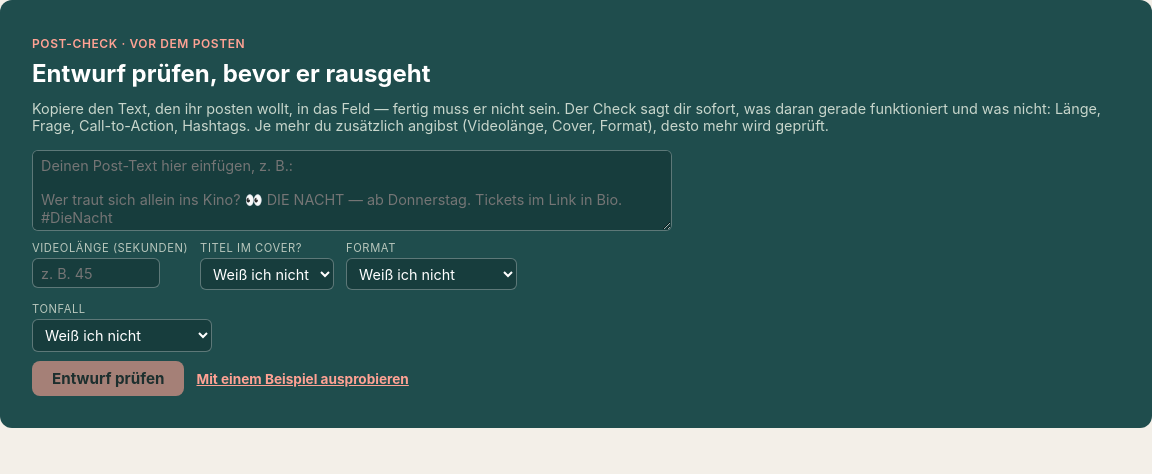
Test: PostCheckBlock — Flag-Gate und Ablauf › meldet einen Fehler, statt ihn zu verschlucken
The image size is (1152, 474).
expect the heading "Entwurf prüfen, bevor er rausgeht" is shown: met, box [32,59,430,88]
Replace the text in the text box named "Caption-Entwurf" with "x" at (352, 191), box [32,150,672,231]
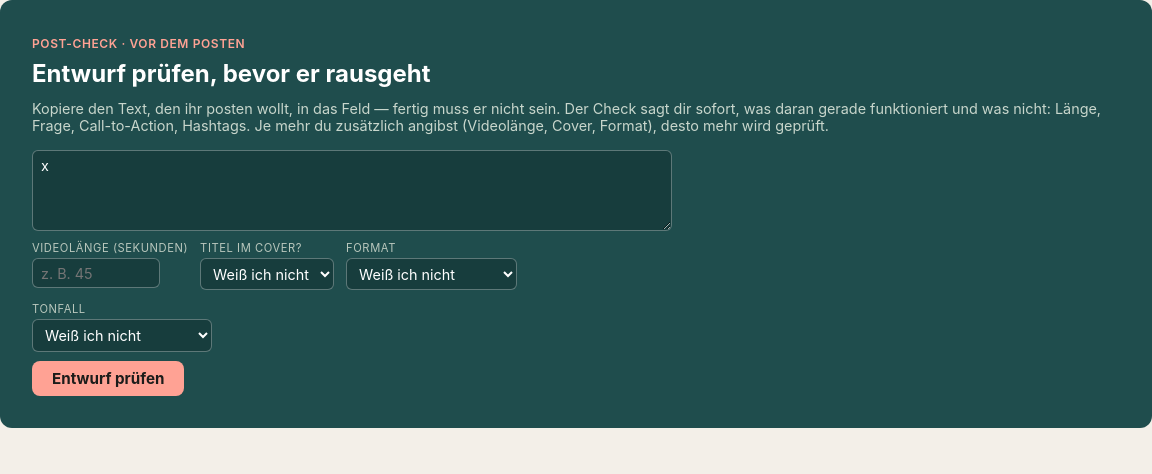
Click the button "Entwurf prüfen".
click(108, 379)  # box [32,361,184,396]
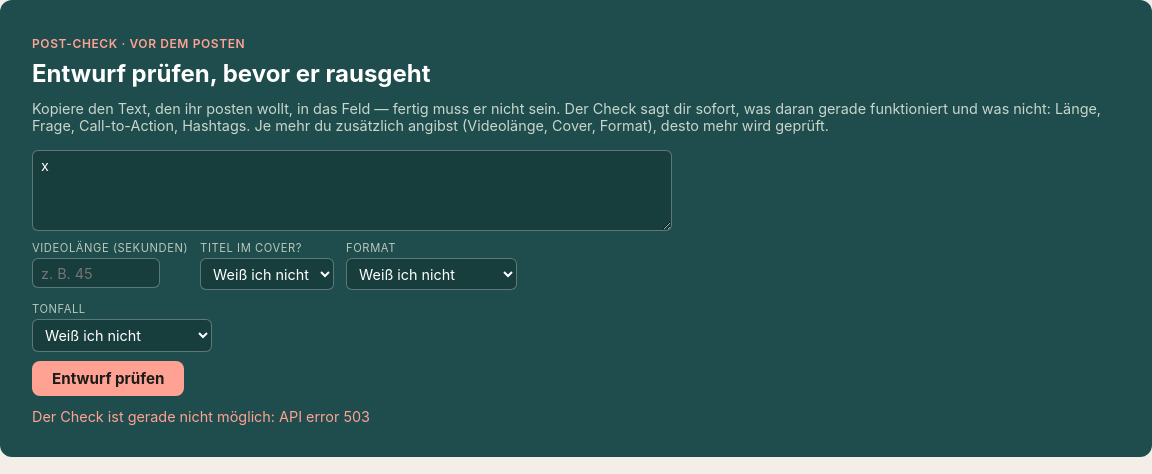
expect the text "Der Check ist gerade nicht möglich: API error 503" is shown: met, box [32,408,370,425]
